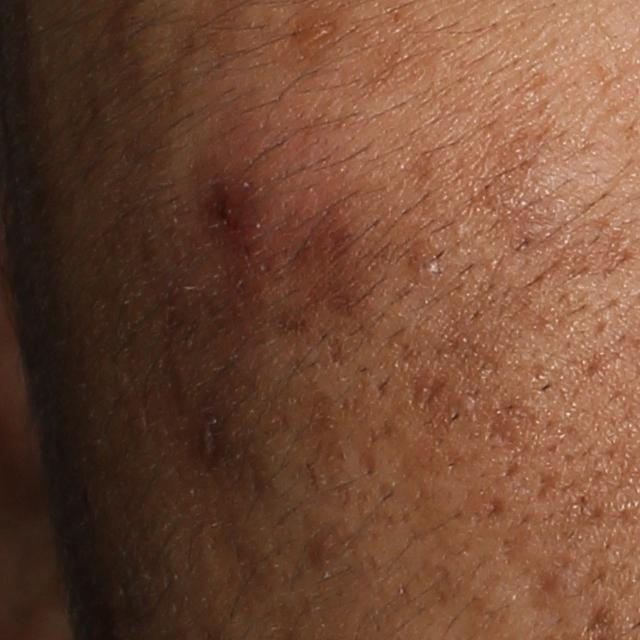atrophic_scar: (484, 397, 538, 449), (524, 561, 572, 614), (406, 372, 450, 409), (587, 603, 612, 633), (486, 496, 506, 524), (499, 461, 518, 480)
comedo: (413, 256, 442, 279)
